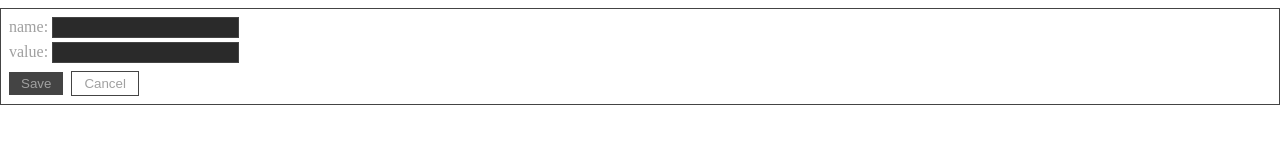
Test: AddElementForm › save button is enabled when all fields are filled
In the field with test id "input-name": (146, 28) [52,17,239,38], type "test"
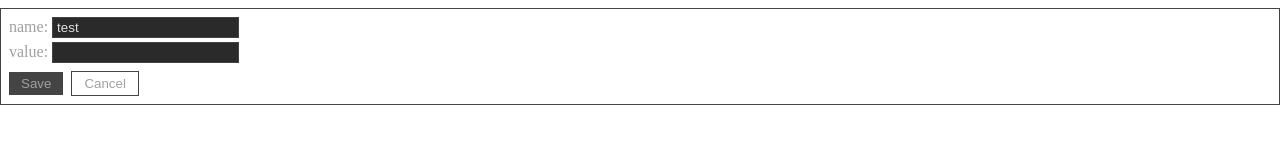
In the field with test id "input-value": (146, 52) [52,42,239,63], type "hello"
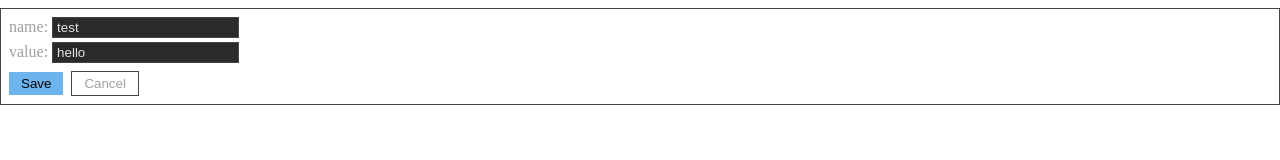
Result: the button with test id "save-button" is enabled at [9,72,63,95]
